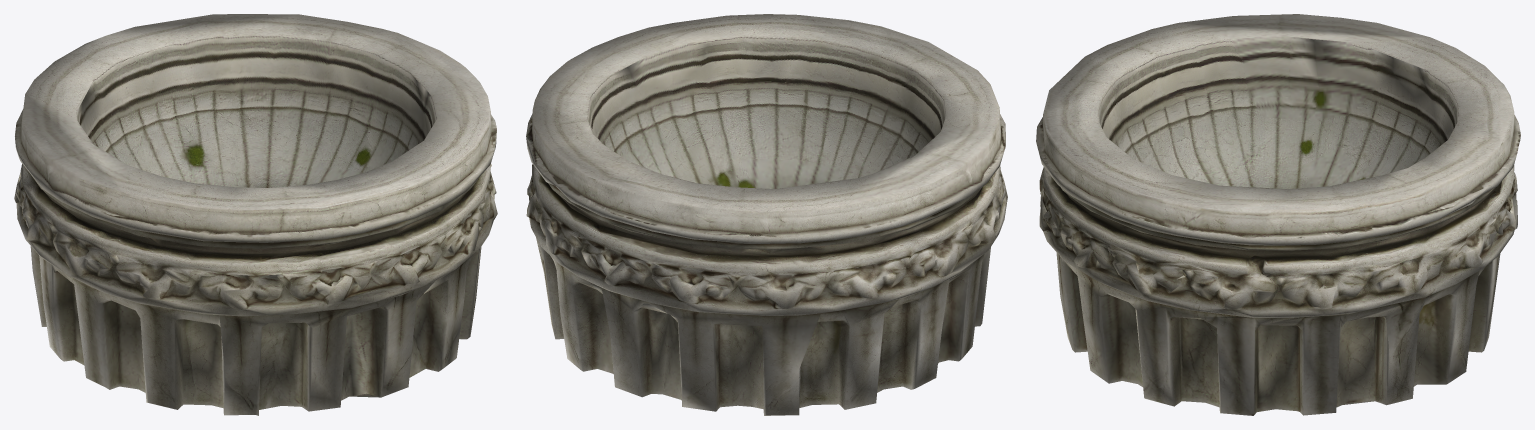
The model's file is prop-column.glb.
3 views of the same model, side by side, from view 1: azimuth 30°, elevation 25°; view 2: azimuth 150°, elevation 25°; view 3: azimuth 270°, elevation 25° (orthographic).
Size of the model in its own units: 1.9 by 0.9393 by 1.91.
1 material, 1 textured.
